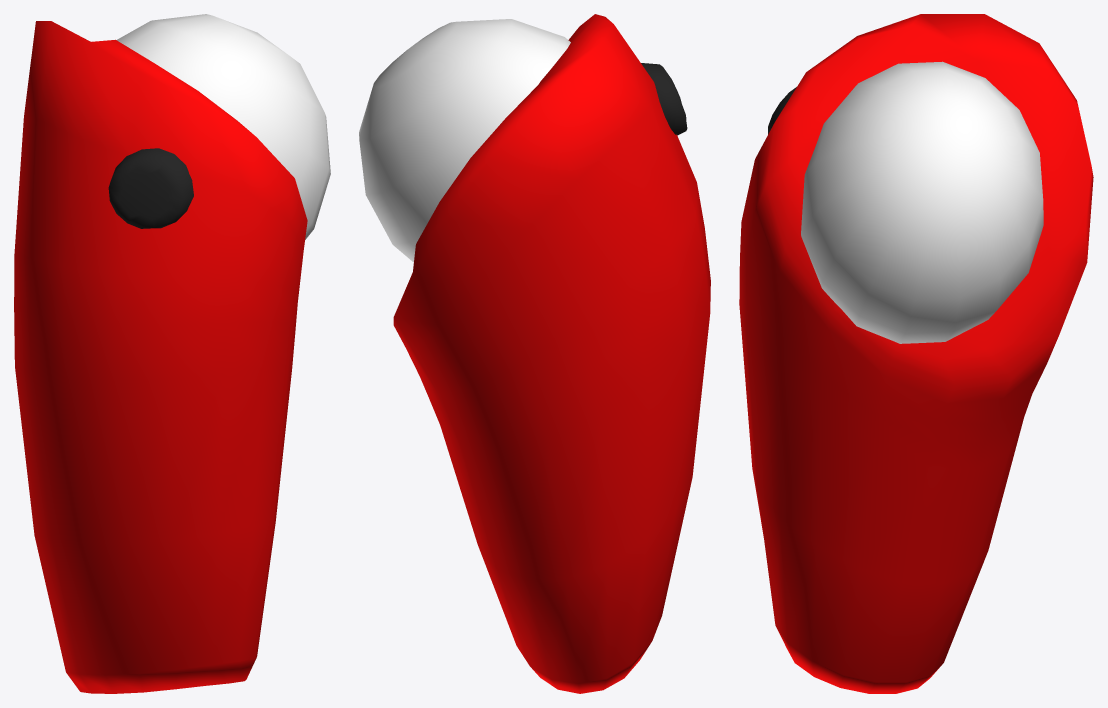
Rendered from Rabbot_UpperLeg.fbx.
3 views of the same model, side by side, from view 1: azimuth 30°, elevation 25°; view 2: azimuth 150°, elevation 25°; view 3: azimuth 270°, elevation 25° (orthographic).
Visible parts, largest first — view 1: Rabbot_UpperLeg; view 2: Rabbot_UpperLeg; view 3: Rabbot_UpperLeg.
Boxes of the visible parts, x1,y1,x2,y2 form: Rabbot_UpperLeg: (14, 14, 330, 693); Rabbot_UpperLeg: (359, 14, 710, 693); Rabbot_UpperLeg: (739, 14, 1093, 693).
Size of the model in its own units: 19.59 by 40.89 by 20.34.
